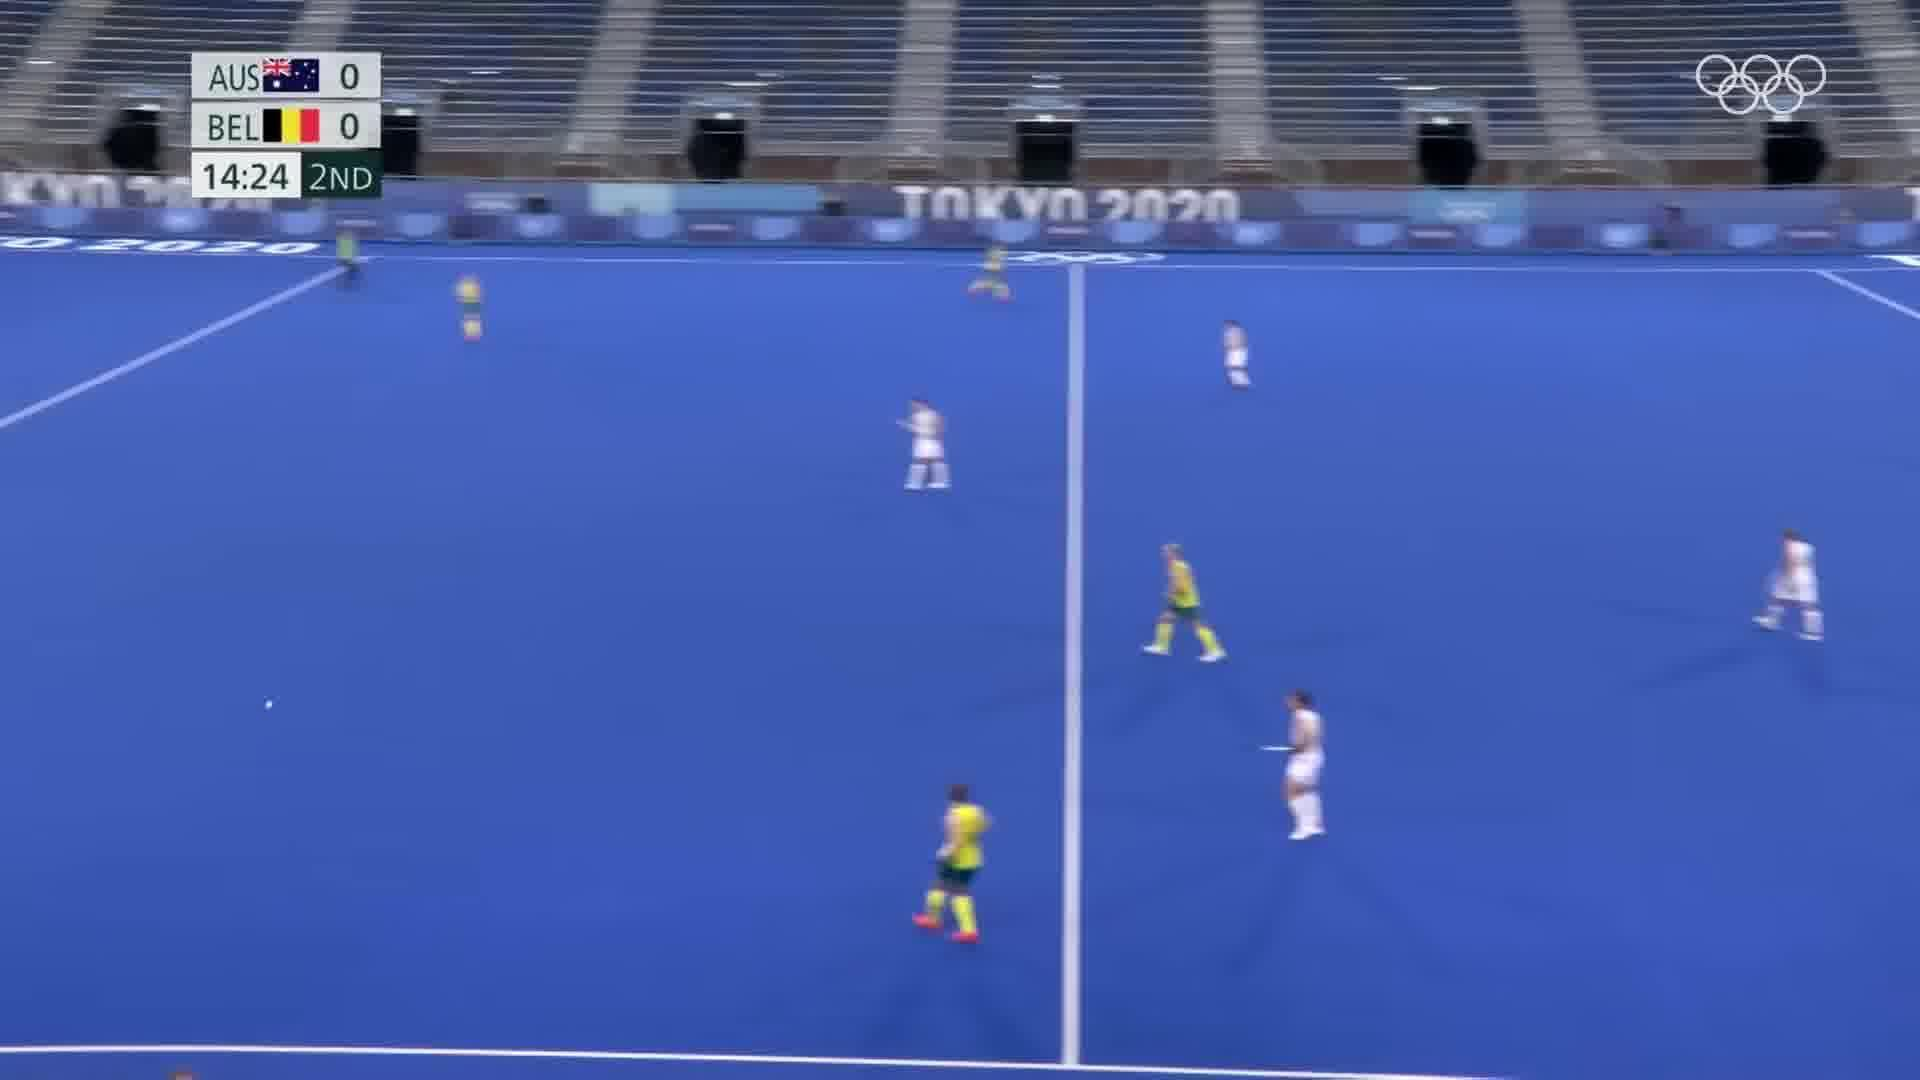ball: (258, 691, 285, 721)
